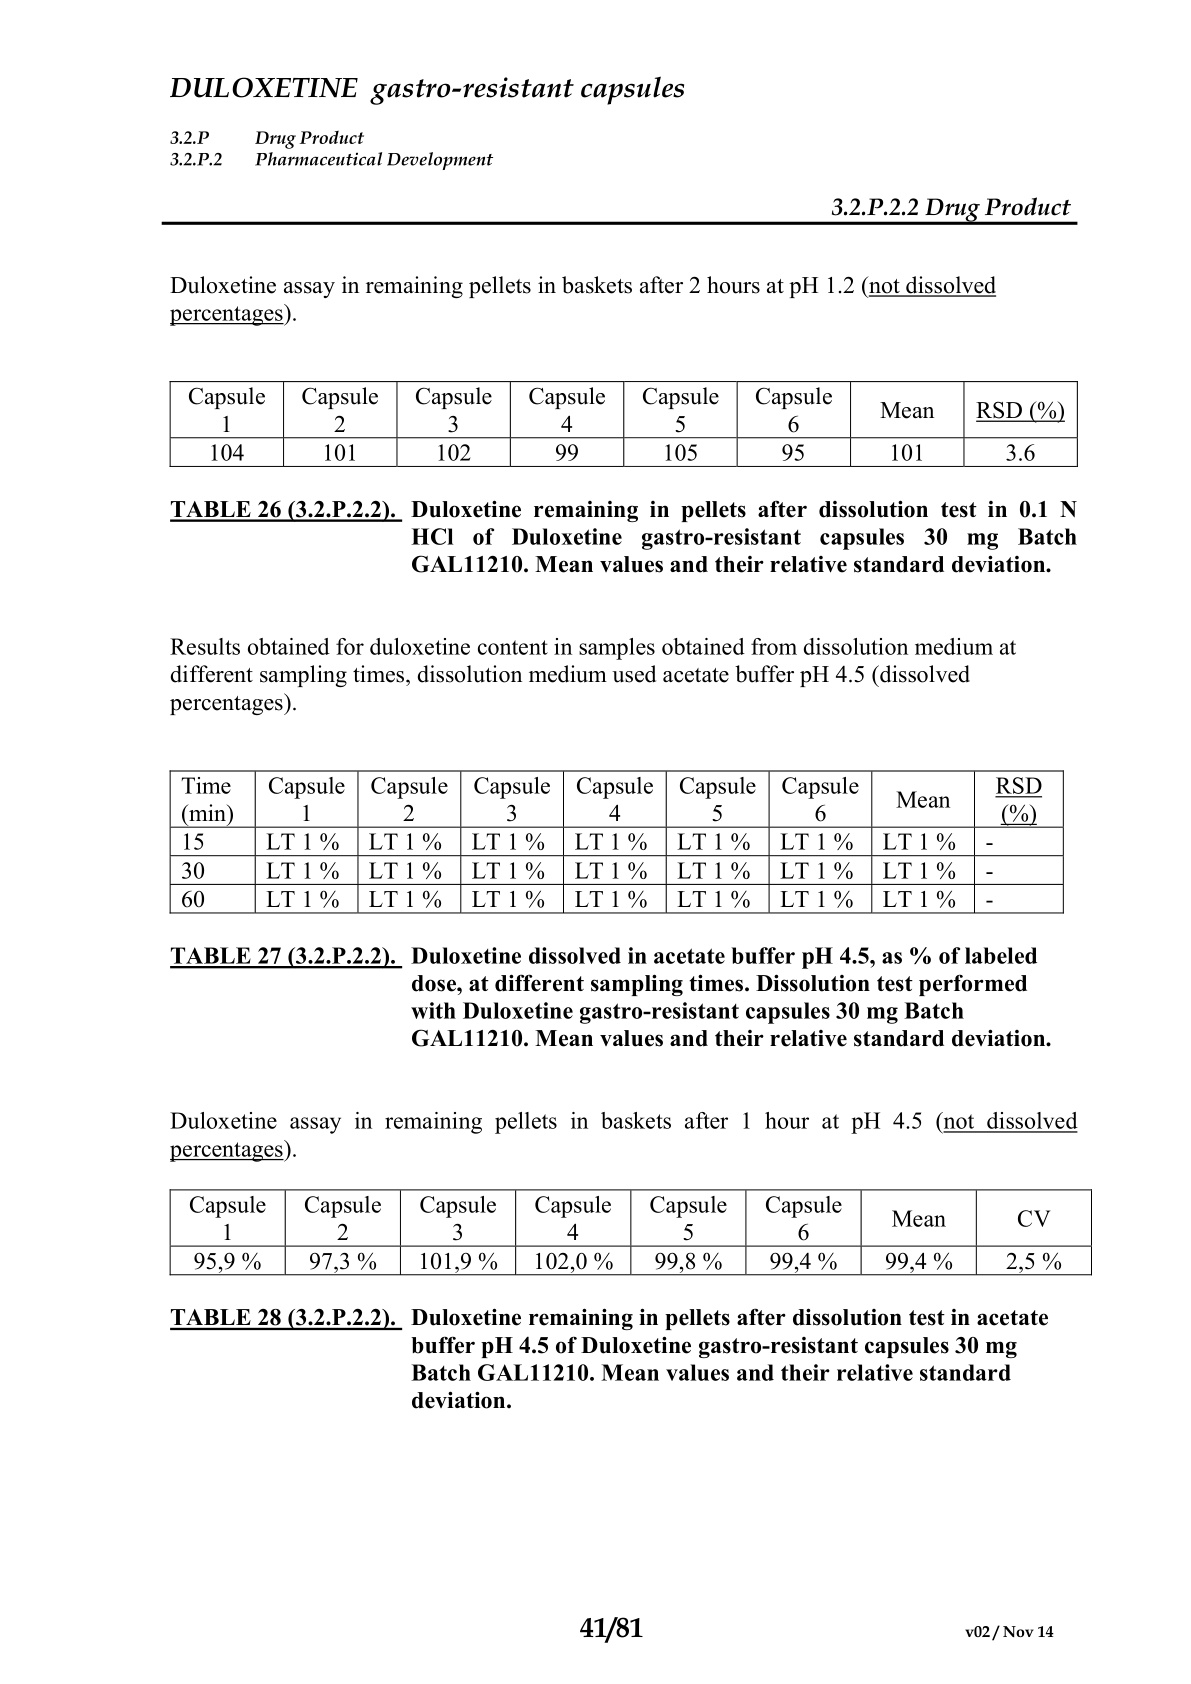full_lined: (169, 770, 1063, 914), (169, 1189, 1093, 1276), (169, 381, 1078, 466)
